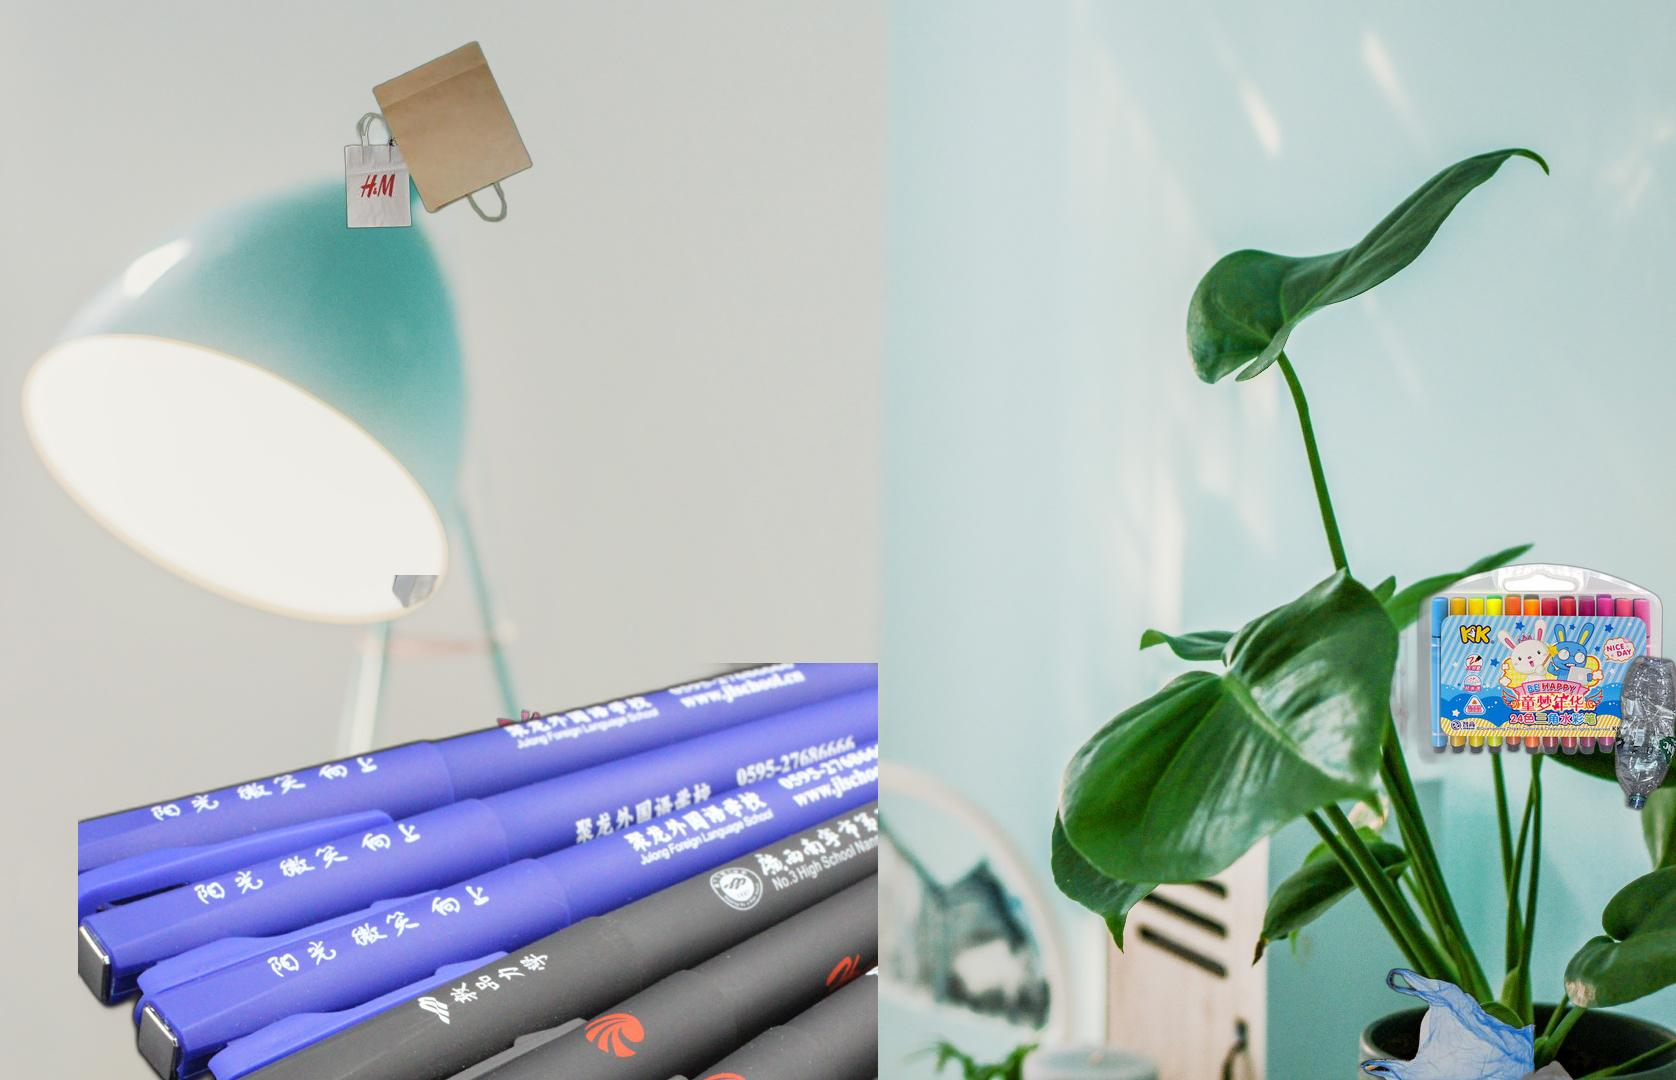paper-bag: (341, 39, 535, 231)
penholder: (78, 663, 878, 1080), (1369, 560, 1666, 768)
plastic-bag: (1357, 965, 1590, 1080)
plastic-bottles: (145, 575, 468, 1015), (1611, 651, 1676, 815)
trashbox-cardboard: (368, 707, 668, 1053)
